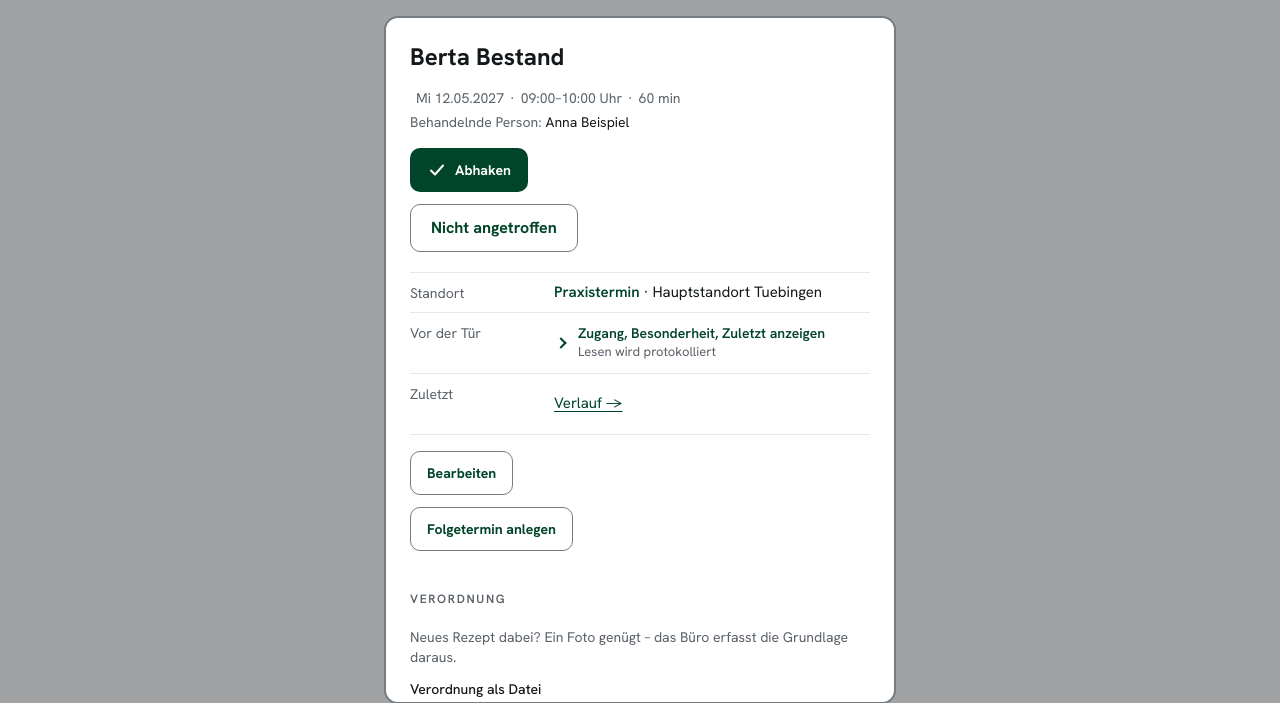
Test: TerminAktionenDialog › CAL-014c: Nicht angetroffen ohne Gebuehrenentscheidung › sagt im Vermerk, was geschieht - ohne den gestrichenen Erklärsatz
Expected: the heading "Berta Bestand" is shown, [410, 41, 564, 72]
Step 1. Click the button "Nicht angetroffen" → (494, 228), box [410, 204, 578, 252]
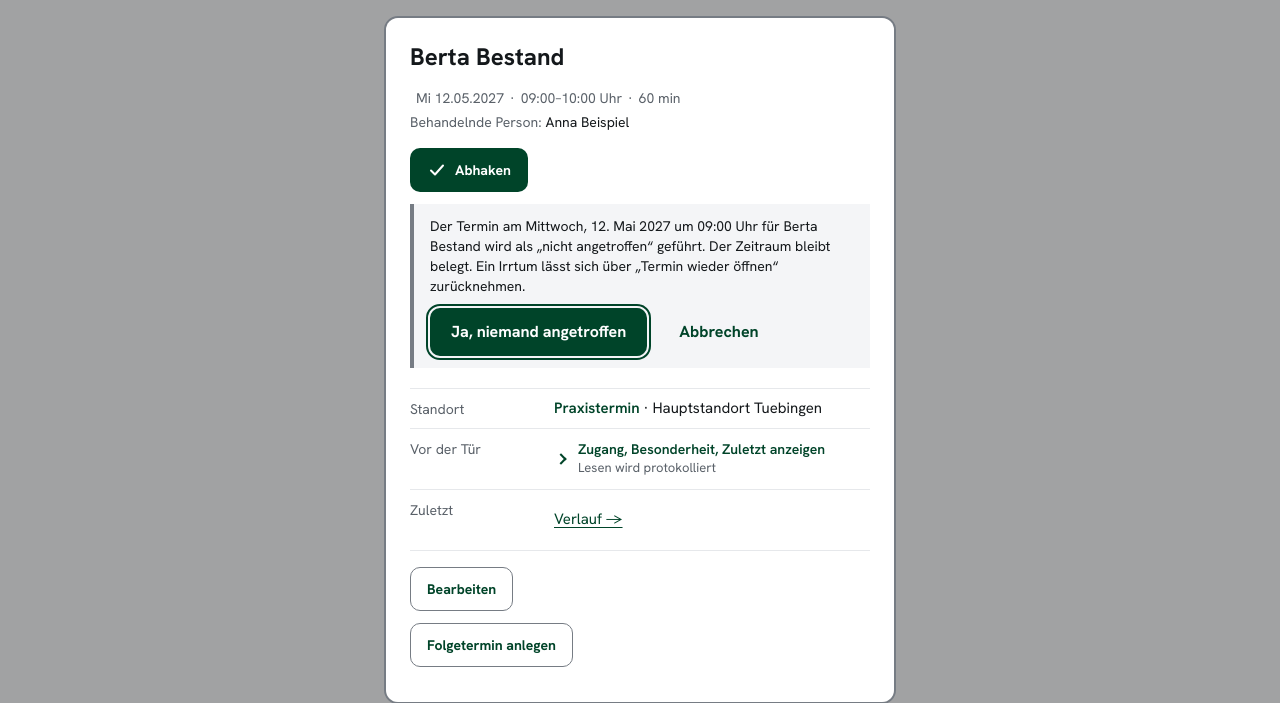
Expected: the element named "Nicht angetroffen" shows "wird als „nicht angetroffen“ geführt", [430, 237, 830, 295]
Expected: the element named "Nicht angetroffen" shows "Termin wieder öffnen", [430, 237, 830, 295]
